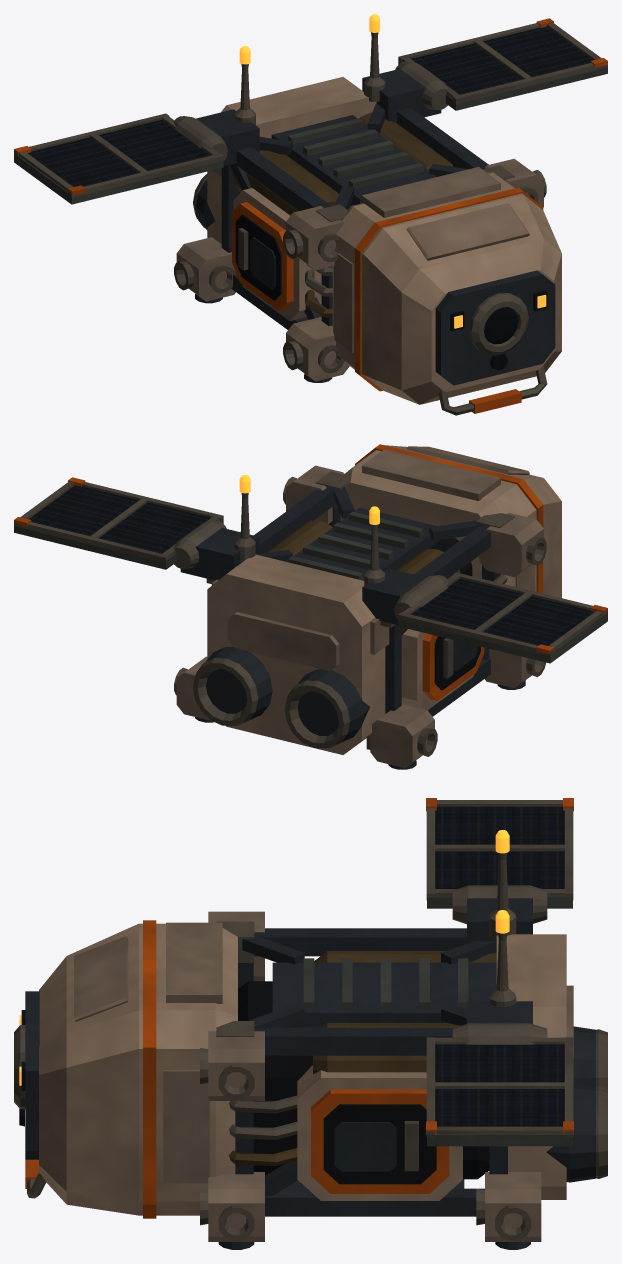
Rendered from base-drone-lod1.glb.
The picture shows the model from 3 angles, top to bottom: view 1: azimuth 30°, elevation 25°; view 2: azimuth 150°, elevation 25°; view 3: azimuth 270°, elevation 25°; orthographic projection. The views are drawn at different scales.
Parts seen in each view (by area): view 1: Drone hardware trim 1, Drone photovoltaic coverglass 1; view 2: Drone hardware trim 1, Drone photovoltaic coverglass 1; view 3: Drone hardware trim 1, Drone photovoltaic coverglass 1, Amber drone beacon.001.
Part boxes in pixels (<box>): Drone hardware trim 1: <box>14,18,607,415</box>; Drone photovoltaic coverglass 1: <box>28,26,592,186</box>; Drone hardware trim 1: <box>14,444,607,769</box>; Drone photovoltaic coverglass 1: <box>29,485,594,645</box>; Drone hardware trim 1: <box>14,798,607,1249</box>; Drone photovoltaic coverglass 1: <box>435,806,564,1126</box>; Amber drone beacon.001: <box>495,830,509,933</box>.
Size of the model in its own units: 5.96 by 2.6 by 4.51.
4 materials, 2 textured.
